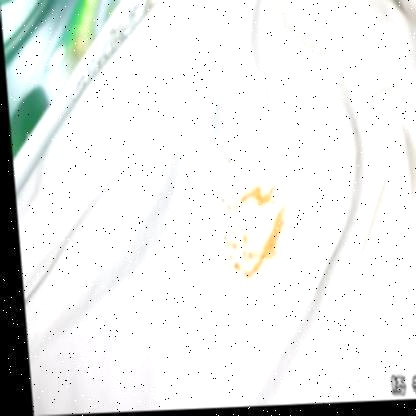kimchi: (217, 230, 267, 279), (220, 189, 286, 215), (264, 206, 289, 258)
